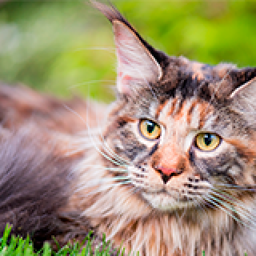cat: (1, 11, 256, 255)
